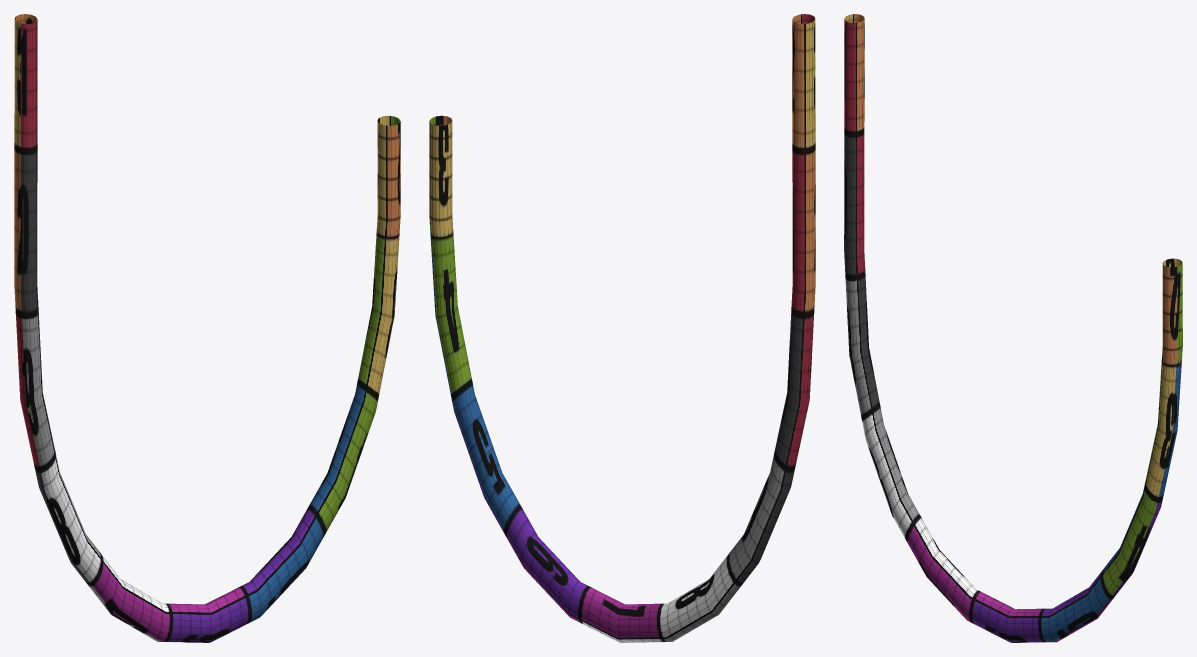
File: Cable2.fbx
3 renders of one model, left to right at view 1: azimuth 30°, elevation 25°; view 2: azimuth 150°, elevation 25°; view 3: azimuth 330°, elevation 25°, orthographic. The views are drawn at different scales.
Parts seen in each view (by area): view 1: Cable12; view 2: Cable12; view 3: Cable12.
Part boxes in pixels (x1=…): Cable12: x1=14, y1=14, x2=400, y2=642; Cable12: x1=429, y1=14, x2=815, y2=642; Cable12: x1=844, y1=14, x2=1182, y2=642.
Size of the model in its own units: 59.78 by 99.73 by 3.36.
Materials: 1 (1 with a texture image).
